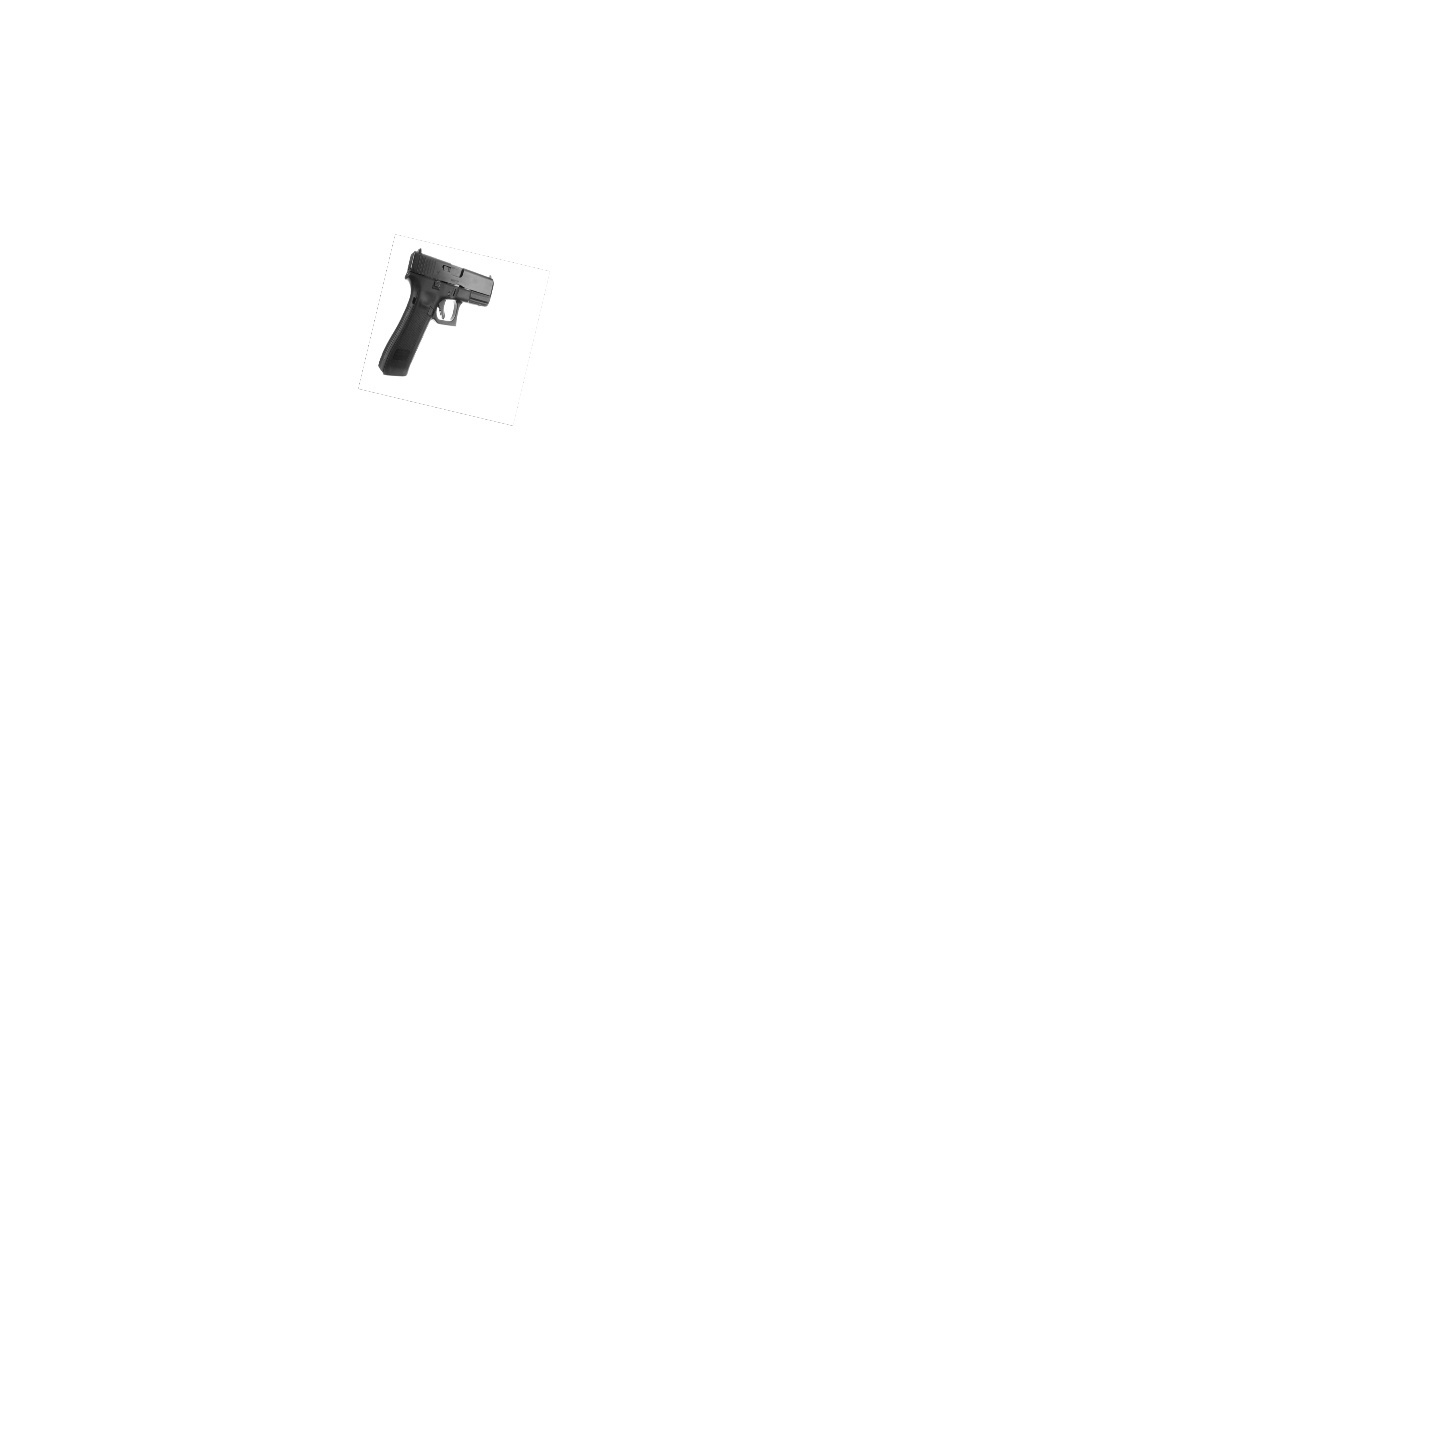gun: (365, 242, 496, 382)
